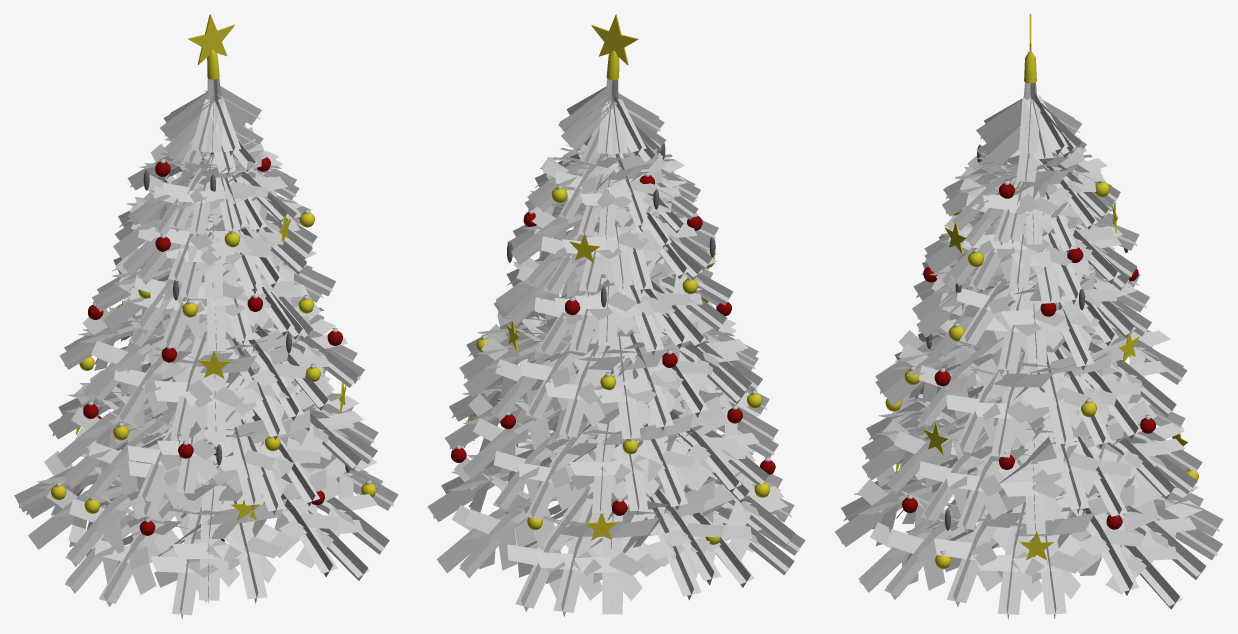
File: christmas_tree.obj
3 views of the same model, side by side, from view 1: azimuth 30°, elevation 25°; view 2: azimuth 150°, elevation 25°; view 3: azimuth 270°, elevation 25° (orthographic). The views are drawn at different scales.
Parts seen in each view (by area): view 1: Plane.072, Plane.134, Plane.123, Plane.025_Plane.028, Plane.036_Plane.041, Plane.037_Plane.042, Plane.038_Plane.043, Plane.032_Plane.037, Plane.071, Plane.133, Plane.136, Plane.139 (+64 smaller); view 2: Plane.146, Plane.049_Plane.003, Plane.060, Plane.012_Plane.014, Plane.110, Plane.100, Plane.109, Plane.011_Plane.013, Plane.002, Plane.048_Plane.053, Plane.017_Plane.020, Plane.142 (+62 smaller); view 3: Plane.024_Plane.027, Plane.111, Plane.013_Plane.015, Plane.084, Plane.020_Plane.023, Plane.121, Plane.023_Plane.026, Plane.025_Plane.028, Plane.080, Plane.122, Plane.118, Plane.026_Plane.029 (+60 smaller).
Boxes of the visible parts, x1,y1,x2,y2 form: Plane.072: [162, 455, 263, 602]; Plane.134: [95, 484, 215, 606]; Plane.123: [180, 455, 286, 603]; Plane.025_Plane.028: [214, 463, 338, 576]; Plane.036_Plane.041: [150, 483, 242, 619]; Plane.037_Plane.042: [65, 464, 202, 567]; Plane.038_Plane.043: [153, 331, 244, 436]; Plane.032_Plane.037: [203, 406, 276, 509]; Plane.071: [225, 331, 306, 420]; Plane.133: [178, 323, 258, 441]; Plane.136: [114, 322, 231, 427]; Plane.139: [85, 410, 215, 500]; Plane.146: [563, 477, 661, 614]; Plane.049_Plane.003: [535, 482, 645, 616]; Plane.060: [607, 480, 724, 585]; Plane.012_Plane.014: [507, 486, 613, 611]; Plane.110: [459, 440, 595, 578]; Plane.100: [518, 399, 619, 519]; Plane.109: [544, 330, 633, 440]; Plane.011_Plane.013: [573, 331, 665, 441]; Plane.002: [568, 388, 654, 514]; Plane.048_Plane.053: [603, 458, 710, 600]; Plane.017_Plane.020: [463, 385, 602, 479]; Plane.142: [593, 388, 695, 509]; Plane.024_Plane.027: [934, 458, 1064, 606]; Plane.111: [997, 492, 1094, 618]; Plane.013_Plane.015: [1057, 485, 1143, 595]; Plane.084: [971, 474, 1068, 619]; Plane.020_Plane.023: [999, 422, 1076, 534]; Plane.121: [970, 335, 1065, 458]; Plane.023_Plane.026: [997, 325, 1093, 448]; Plane.025_Plane.028: [835, 467, 986, 546]; Plane.080: [1022, 387, 1101, 513]; Plane.122: [884, 459, 1012, 599]; Plane.118: [946, 417, 1047, 532]; Plane.026_Plane.029: [917, 333, 1038, 428].
Size of the model in its own units: 128 by 203 by 130.
